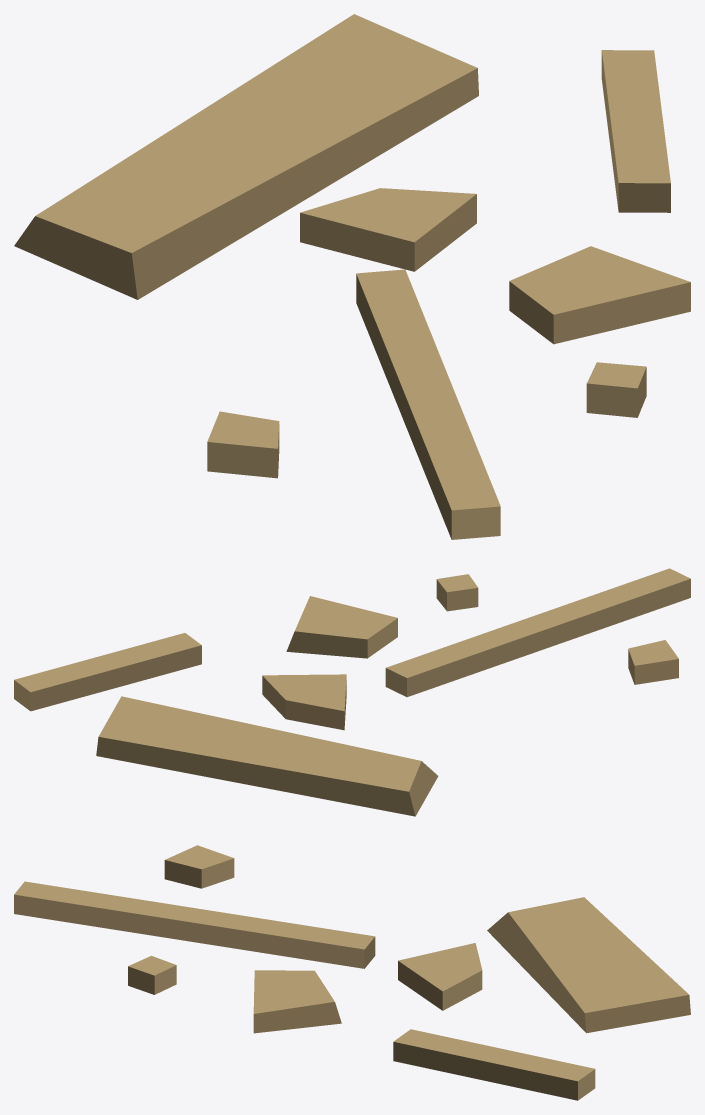
The model's file is SM_Env_Rubble_03.fbx.
3 views of the same model, one above another, from view 1: azimuth 30°, elevation 25°; view 2: azimuth 150°, elevation 25°; view 3: azimuth 270°, elevation 25° (orthographic). The views are drawn at different scales.
Parts seen in each view (by area): view 1: SM_Env_Rubble_03; view 2: SM_Env_Rubble_03; view 3: SM_Env_Rubble_03.
Boxes of the visible parts, x1=… form: SM_Env_Rubble_03: x1=14, y1=14, x2=690, y2=539; SM_Env_Rubble_03: x1=14, y1=568, x2=690, y2=816; SM_Env_Rubble_03: x1=14, y1=845, x2=690, y2=1100.
Bounding box in the file's own units: 6.93 × 0.746 × 8.39.
